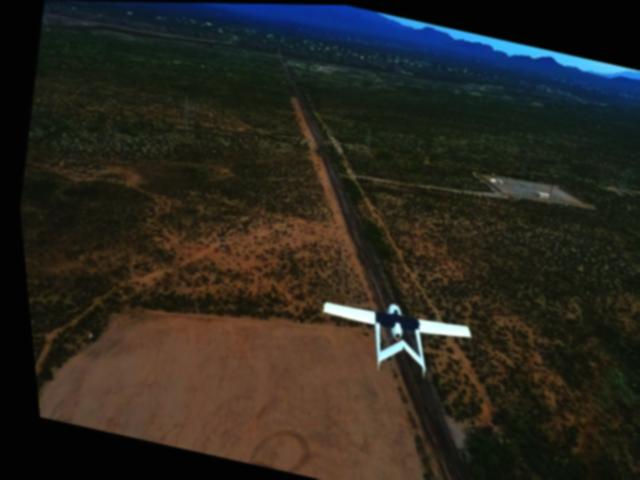plane: (304, 287, 474, 390)
